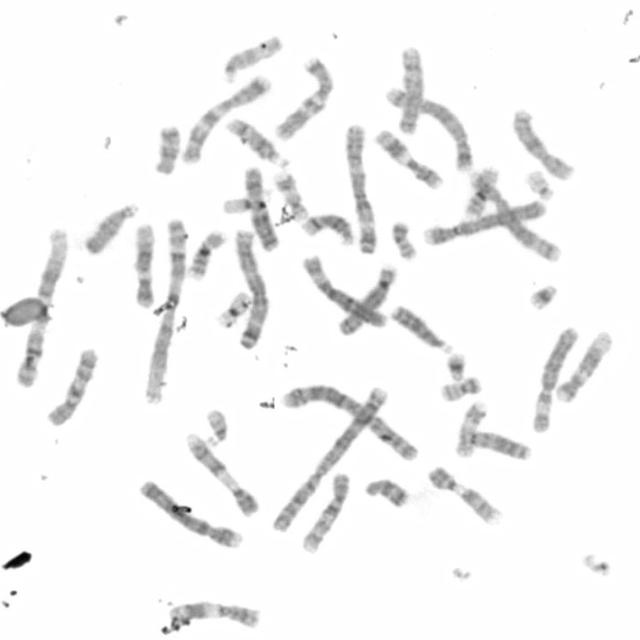A1: (12, 222, 70, 388), (139, 214, 189, 405)
A2: (267, 379, 392, 535), (277, 381, 421, 463)
A3: (341, 120, 379, 255), (230, 226, 270, 350)
B4: (134, 475, 244, 550), (418, 195, 550, 248)
B5: (465, 167, 562, 263), (382, 82, 475, 173)
C10: (42, 344, 101, 429), (297, 470, 351, 554)
C11: (372, 126, 446, 192), (162, 597, 264, 632)
C12: (552, 326, 615, 404), (129, 220, 157, 309)
C6: (299, 250, 389, 330), (527, 322, 581, 435)
C7: (177, 70, 273, 166), (269, 53, 336, 143)
C8: (334, 263, 399, 337), (393, 42, 425, 135)
C9: (183, 429, 261, 518), (425, 462, 504, 526)
D13: (389, 300, 453, 354), (462, 426, 534, 462)
D14: (223, 114, 290, 170), (298, 209, 356, 247)
D15: (80, 200, 141, 258), (218, 32, 284, 84)
E16: (459, 162, 501, 220), (184, 226, 228, 281)
E17: (452, 398, 489, 459), (271, 168, 309, 222)
E18: (150, 121, 182, 178), (361, 474, 410, 510)
F19: (213, 288, 253, 329), (218, 186, 272, 215)
F20: (436, 372, 484, 403), (388, 216, 420, 262)
G21: (524, 279, 560, 313), (442, 348, 470, 383)
G22: (524, 166, 557, 202), (202, 406, 230, 448)
X: (508, 104, 574, 182), (240, 162, 281, 253)
